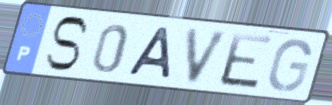0: (90, 22, 134, 74)
A: (125, 25, 173, 82)
E: (217, 30, 276, 92)
G: (266, 37, 314, 94)
S: (43, 14, 92, 73)
V: (185, 26, 233, 87)
